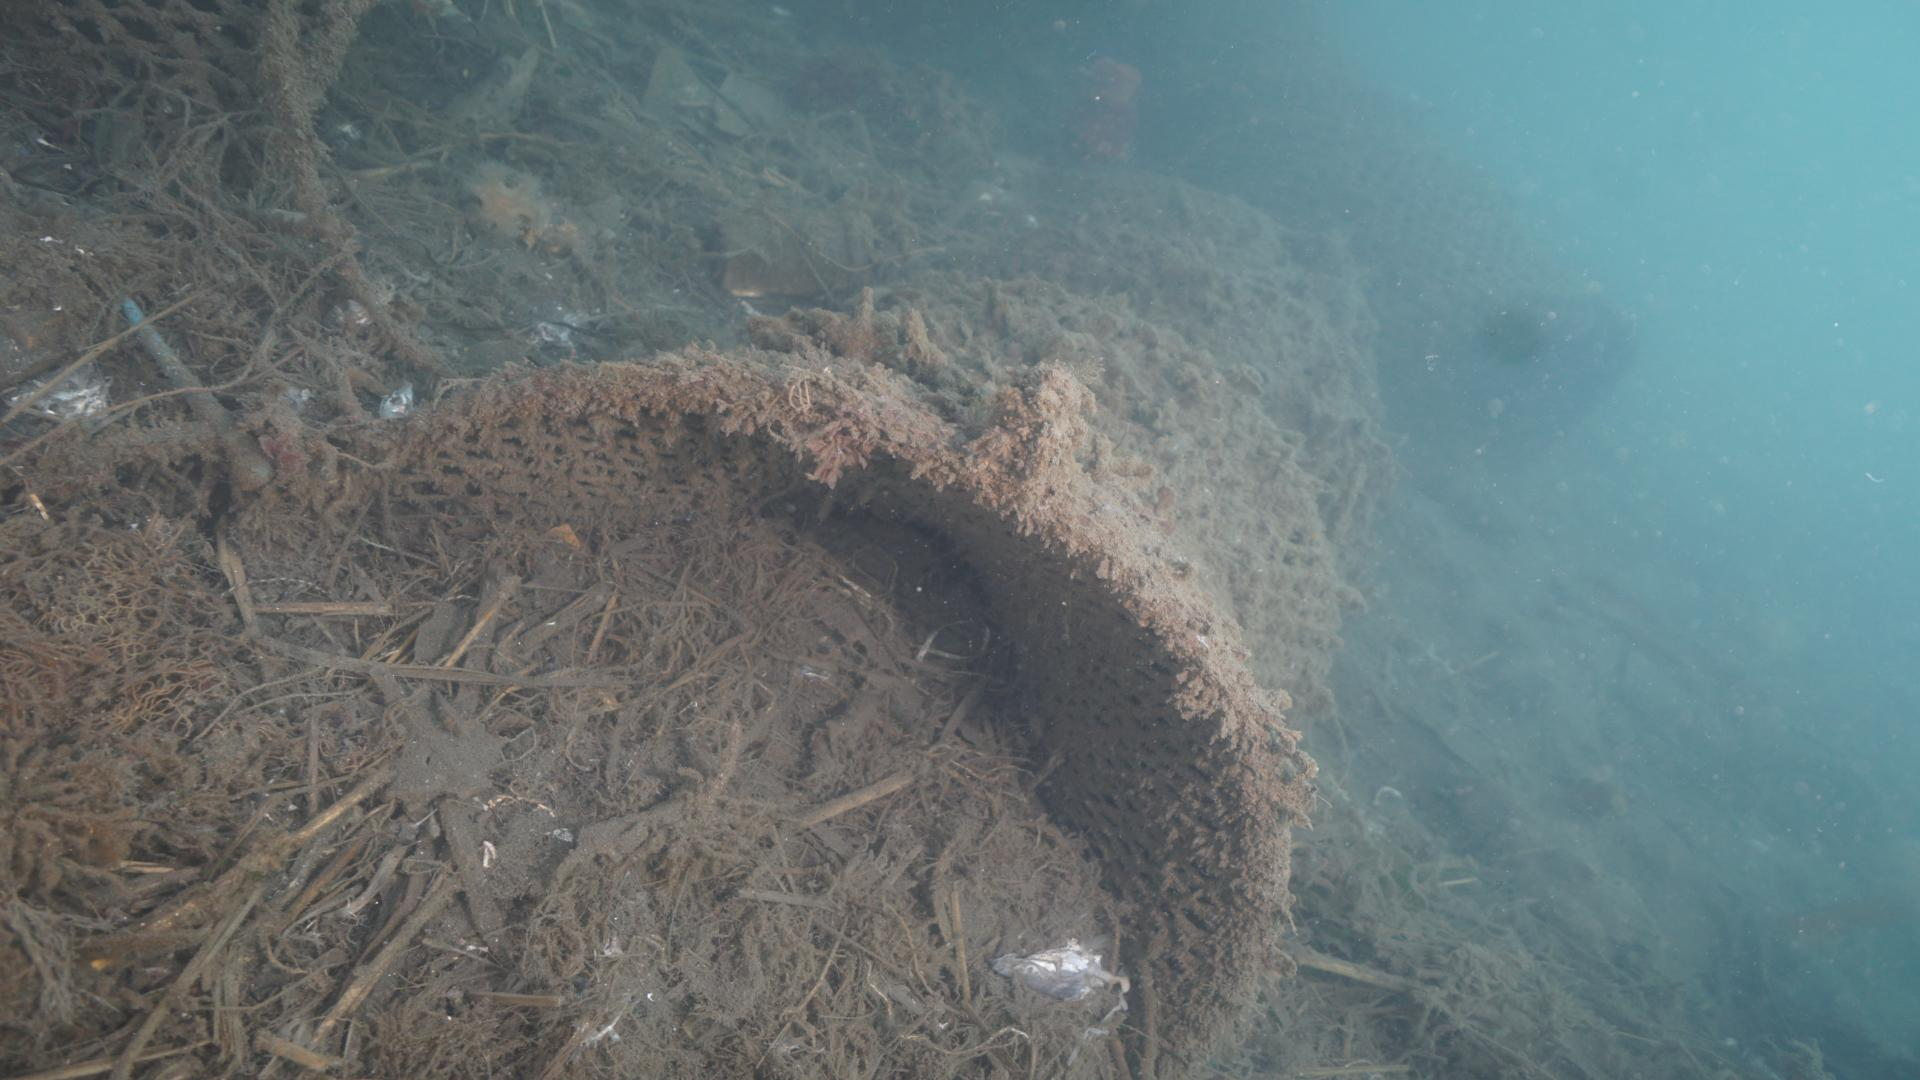spring fish trap: (340, 164, 1390, 1080)
